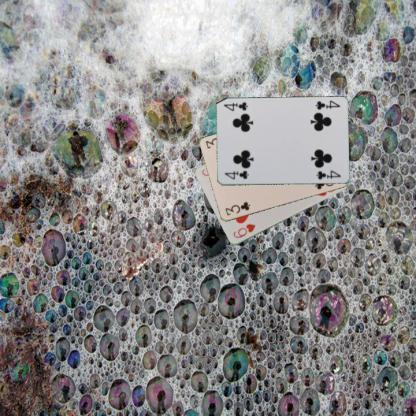3c: (222, 199, 252, 217)
4c: (222, 168, 249, 181), (312, 98, 341, 110)
6h: (230, 221, 256, 240)
